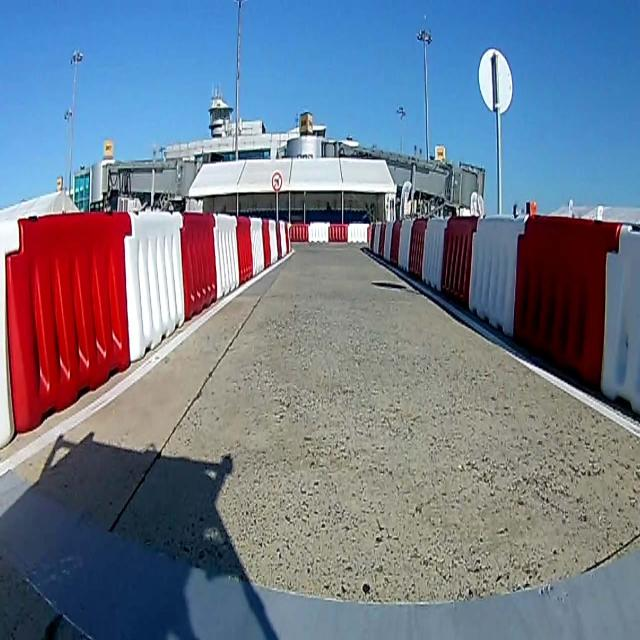soladonulmez: (270, 171, 283, 189)
